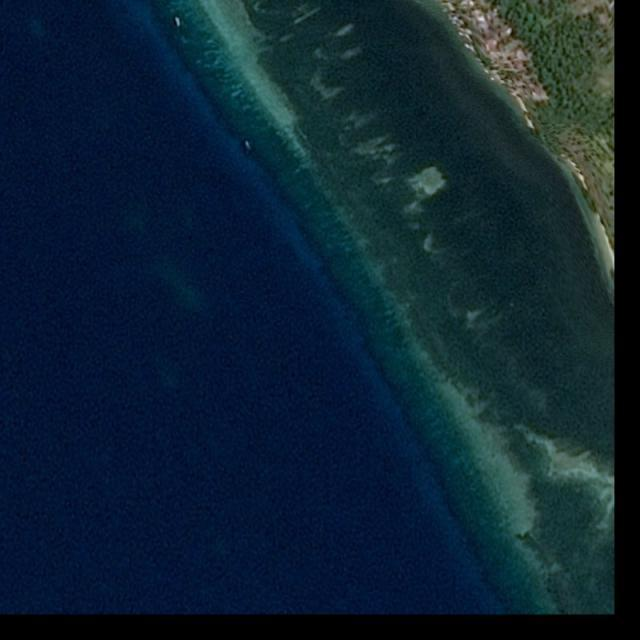ship: (243, 140, 252, 150), (175, 17, 182, 27)
